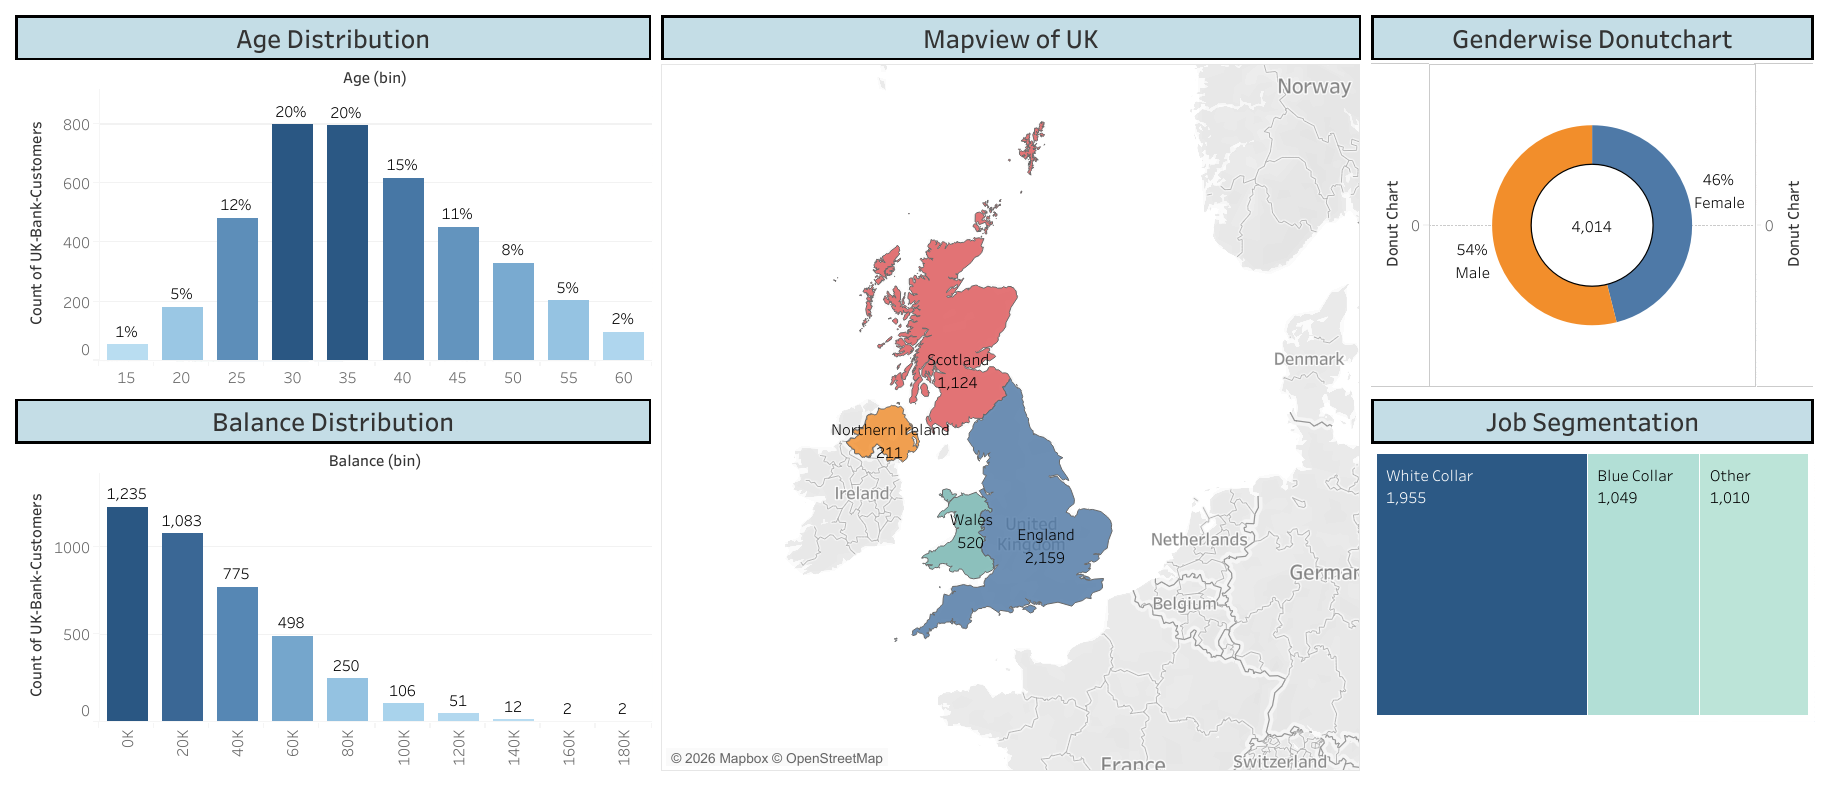

This screenshot's page, from the dashboard's own definition file:
{"tool":"tableau","page":{"name":"Dashboard","canvas":[1000,1000],"units":"permille","ordinal":0},"visuals":[{"type":"worksheet","title":"Age Distribution","mark":"Automatic","rows":["UK-Bank-Customers_F58D33A12C1D46D99E72BF4F24C9AB5B"],"cols":["Age (bin)"],"box":[4.8,8.8,353.7,491.2]},{"type":"worksheet","title":"Mapview of UK","mark":"Multipolygon","box":[358.5,8.8,389,982.4]},{"type":"worksheet","title":"Genderwise Donutchart","mark":"Pie","rows":["Calculation_301741184111497217","Calculation_301741184111497217"],"box":[747.6,8.8,247.6,491.2]},{"type":"worksheet","title":"Balance Distribution","mark":"Automatic","rows":["UK-Bank-Customers_F58D33A12C1D46D99E72BF4F24C9AB5B"],"cols":["Balance (bin)"],"box":[4.8,500,353.7,491.2]},{"type":"worksheet","title":"Job Segmentation","mark":"Automatic","box":[747.6,500,247.6,491.2]}]}

Visuals, with their boxes on the dashboard's canvas, which has no fixed pixel size, in thousandths of its width and height (x1, y1, x2, y2). These are canvas units, not pixel positions in the 1828x785 screenshot, which may show the page scaled, cropped or inside an application window:
"Age Distribution" worksheet: (x1=5, y1=9, x2=358, y2=500)
"Mapview of UK" worksheet (Multipolygon marks): (x1=358, y1=9, x2=748, y2=991)
"Genderwise Donutchart" worksheet (Pie marks): (x1=748, y1=9, x2=995, y2=500)
"Balance Distribution" worksheet: (x1=5, y1=500, x2=358, y2=991)
"Job Segmentation" worksheet: (x1=748, y1=500, x2=995, y2=991)
